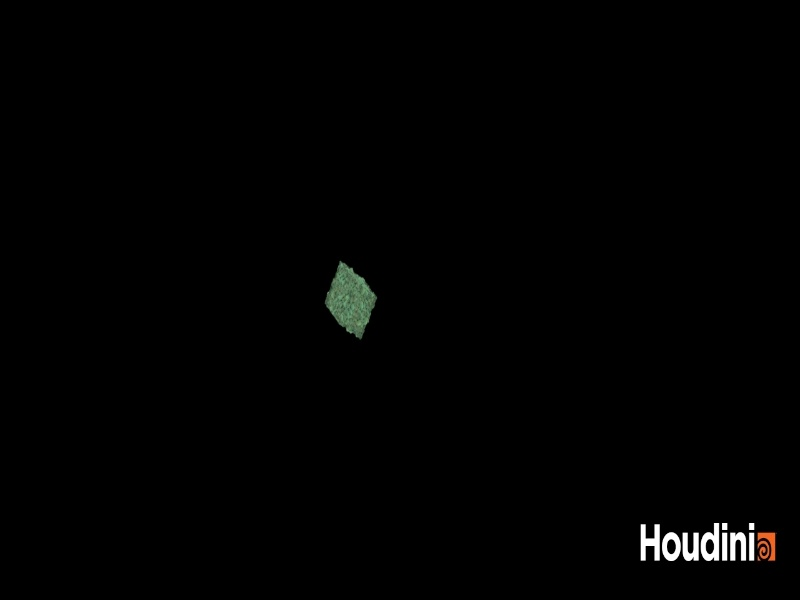waste: (315, 254, 384, 351)
